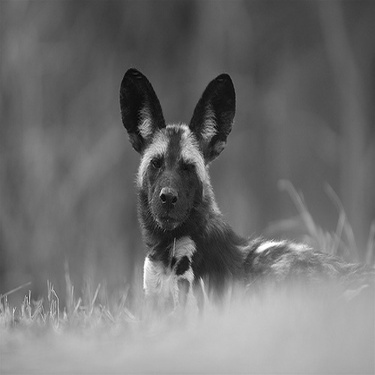dog: (85, 50, 374, 328)
